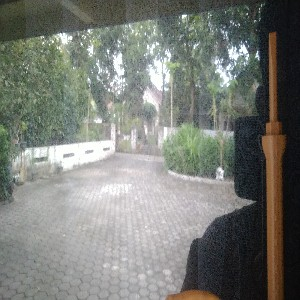obeng: (261, 31, 287, 300)
